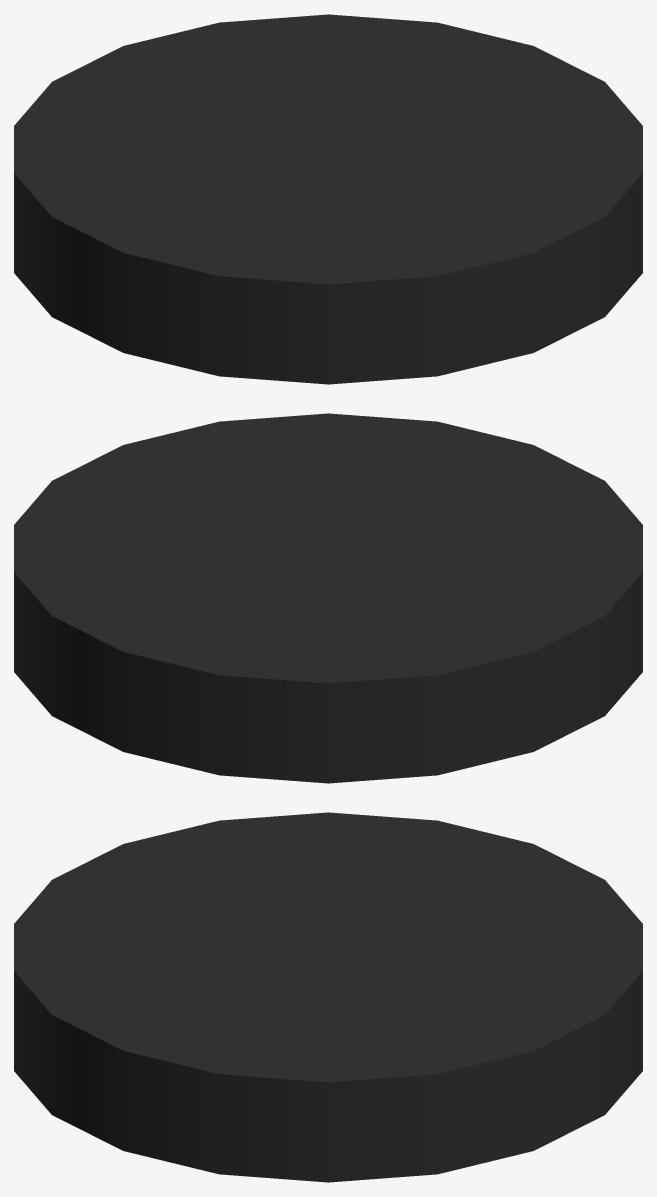
Rendered from uploads_files_2647960_magnet.fbx.
3 renders of one model, top to bottom at view 1: azimuth 30°, elevation 25°; view 2: azimuth 150°, elevation 25°; view 3: azimuth 270°, elevation 25°, orthographic.
Visible parts, largest first — view 1: magnet; view 2: magnet; view 3: magnet.
Part boxes in pixels (bbox=[...]): magnet: bbox=[14, 14, 642, 384]; magnet: bbox=[14, 413, 642, 783]; magnet: bbox=[14, 812, 642, 1182].
Bounding box in the file's own units: 1.71 × 0.2961 × 1.69.
